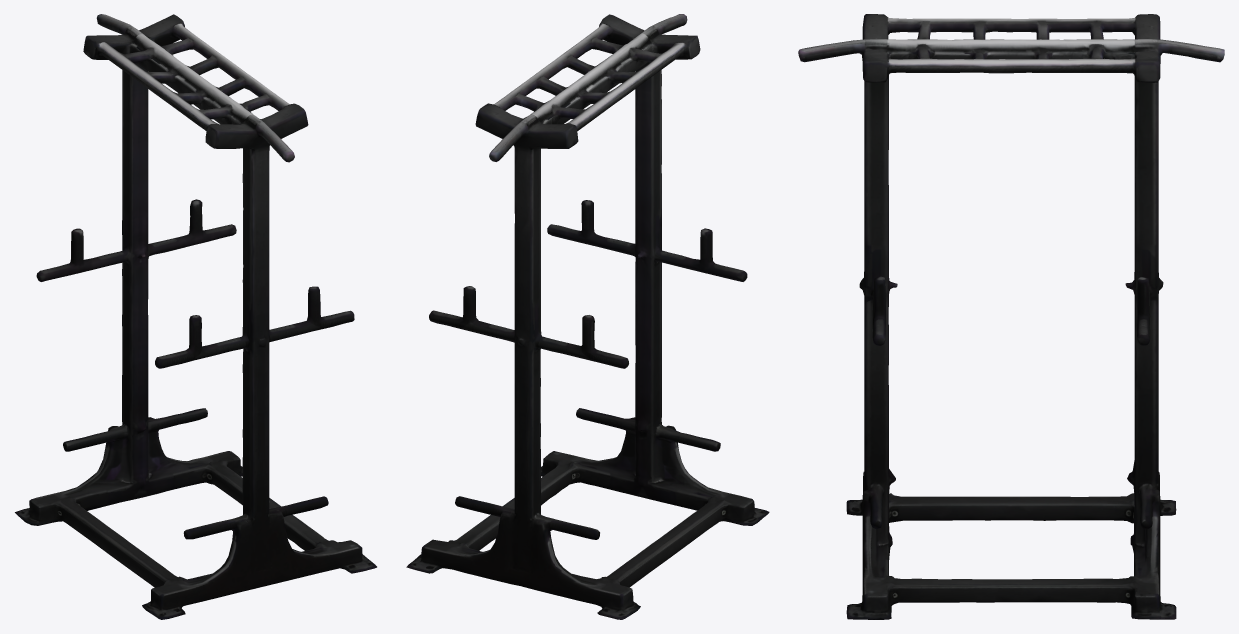
The model's file is pullup-bar.glb.
3 views of the same model, side by side, from view 1: azimuth 30°, elevation 25°; view 2: azimuth 150°, elevation 25°; view 3: azimuth 270°, elevation 25° (orthographic). The views are drawn at different scales.
Visible parts, largest first — view 1: input; view 2: input; view 3: input.
Boxes of the visible parts, x1,y1,x2,y2 form: input: [15, 14, 376, 619]; input: [406, 14, 769, 619]; input: [798, 14, 1224, 619].
Bounding box in the file's own units: 1.03 × 2.1 × 1.55.
Materials: 1 (1 with a texture image).
